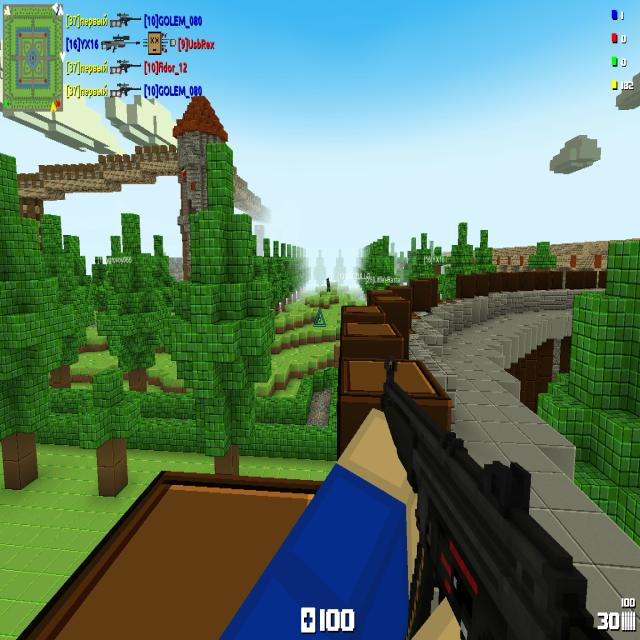enemy: (326, 278, 331, 292)
